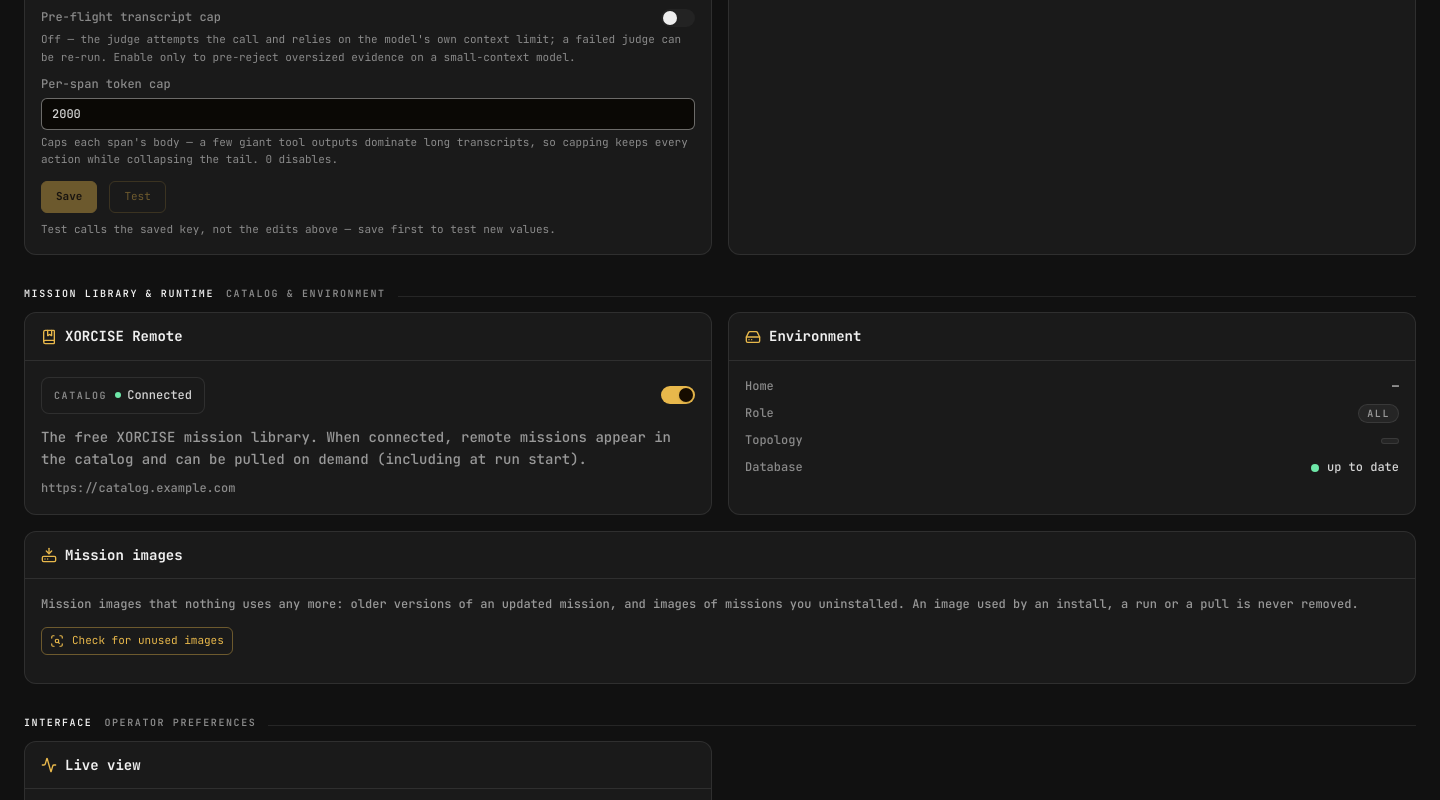
Settings — XORCISE Remote switch › shows connection state and toggles the remote off via PUT /config/catalog
The image size is (1440, 800).
(page scrolled)
Expected: the heading "XORCISE Remote" is shown, [65,326,183,348]
Click the switch named "connect xorcise remote catalog" at (678, 396), box [661,386,695,404]
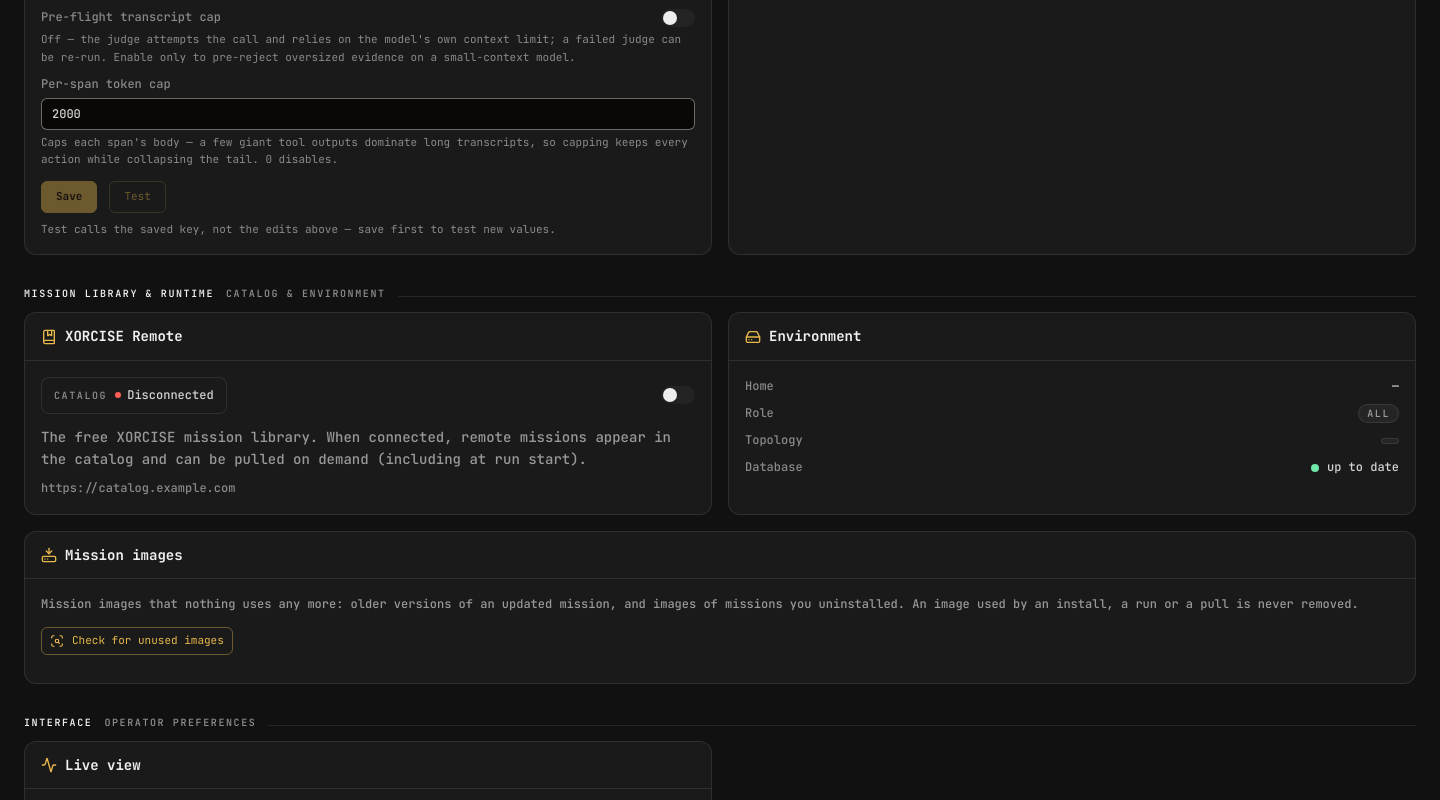
Expected: the text "Disconnected" is shown, [127,386,214,405]
